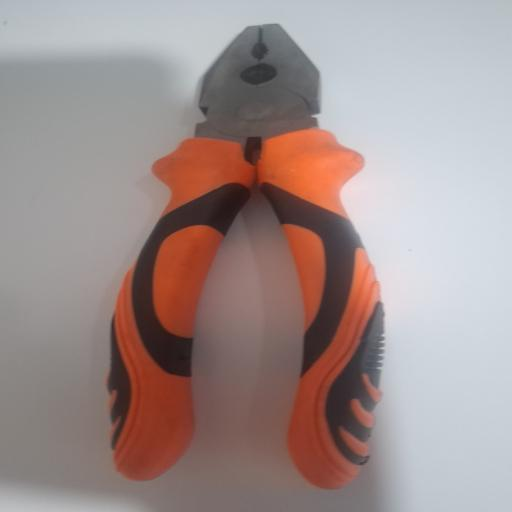alicate: (100, 23, 391, 493)
